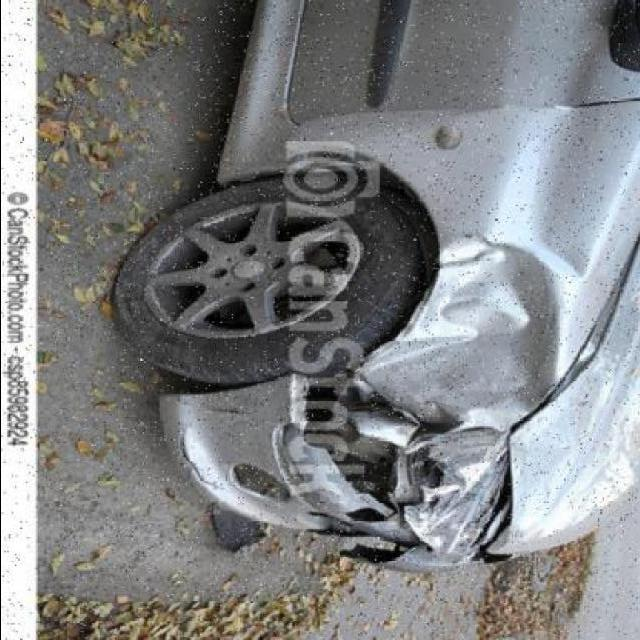Headlight-Damage: (396, 405, 520, 572)
fender-dent: (306, 97, 582, 396)
front-bumper-dent: (152, 354, 414, 565)
